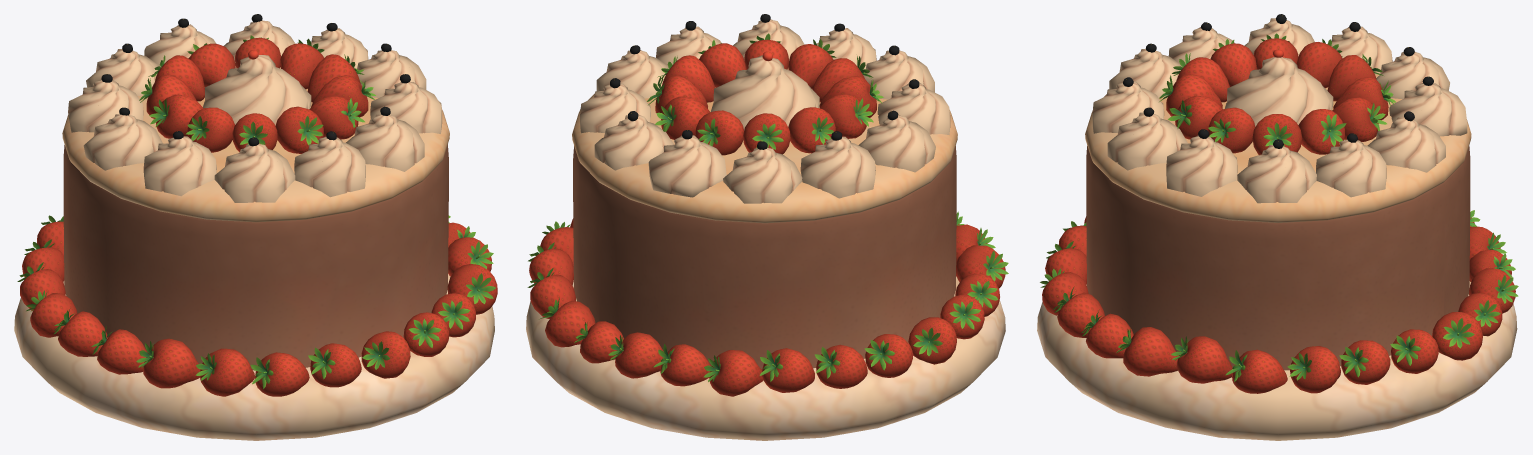
File: cake_strawberry.fbx
The picture shows the model from 3 angles, left to right: view 1: azimuth 30°, elevation 25°; view 2: azimuth 150°, elevation 25°; view 3: azimuth 270°, elevation 25°; orthographic projection.
Visible parts, largest first — view 1: cake_crem; view 2: cake_crem; view 3: cake_crem.
Part boxes in pixels (x1,y1,x2,y2): cake_crem: (14,14,497,440); cake_crem: (526,14,1008,440); cake_crem: (1037,14,1518,440).
Bounding box in the file's own units: 25.02 × 16.92 × 24.97.
